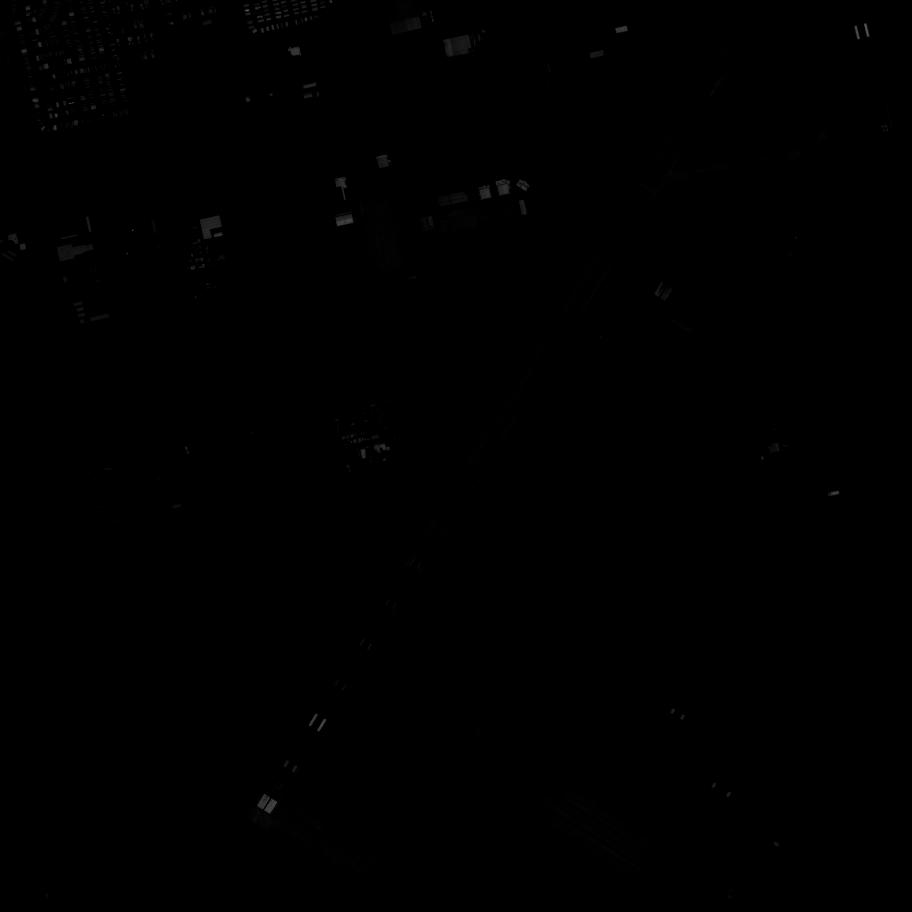plane: (347, 178, 355, 185), (349, 183, 356, 190), (653, 21, 657, 27), (636, 28, 640, 32), (649, 0, 654, 3), (634, 25, 638, 28), (635, 21, 637, 24)
storage-tank: (841, 488, 844, 493), (784, 444, 786, 448)
